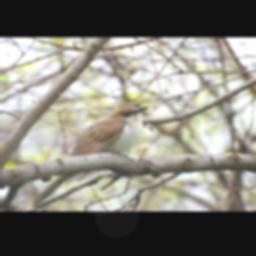Cuckoo: (26, 106, 150, 211)
